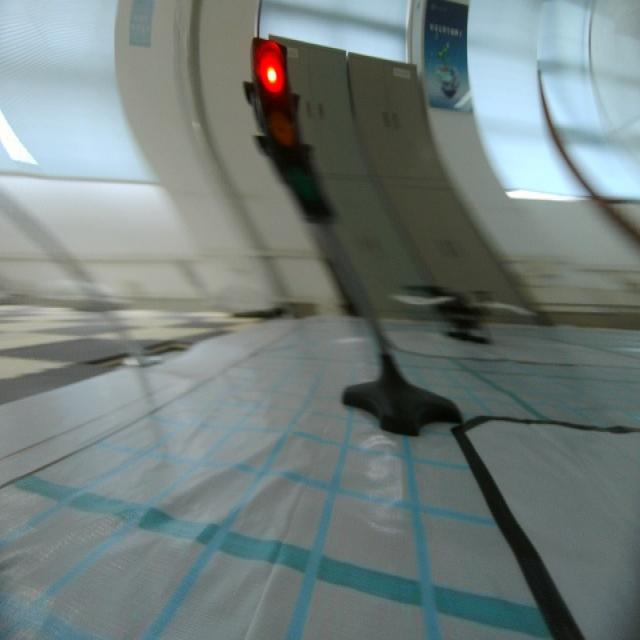red: (245, 28, 335, 236)
